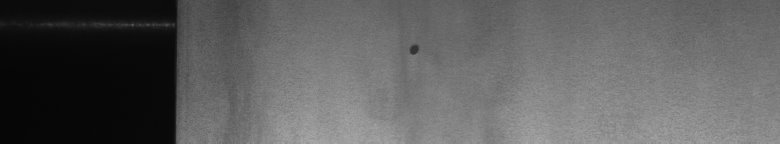fi: (407, 36, 424, 64)
